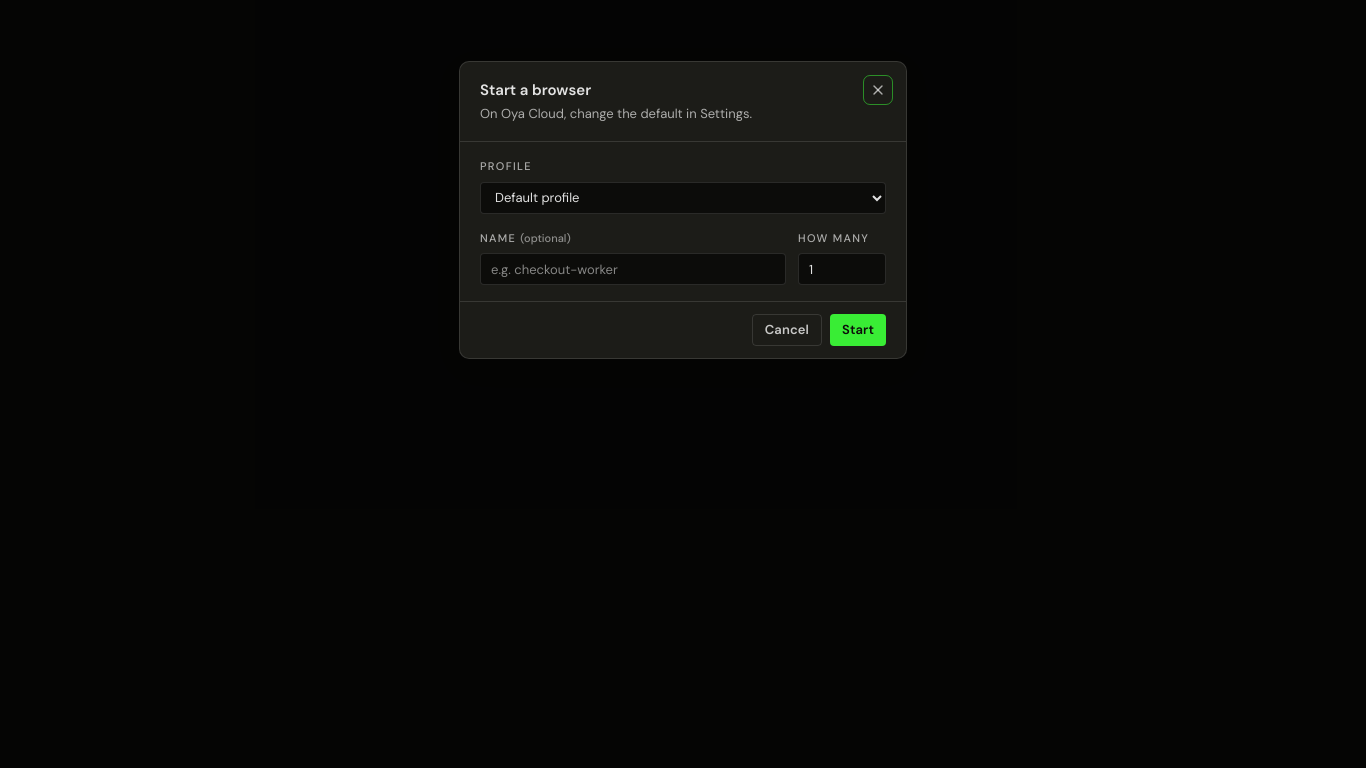
Scenario: StartBrowser › starts a browser, reports it and closes
This screenshot has width=1366, height=768.
Click the button "Start": coordinates (858, 330) x1=830 y1=314 x2=886 y2=346
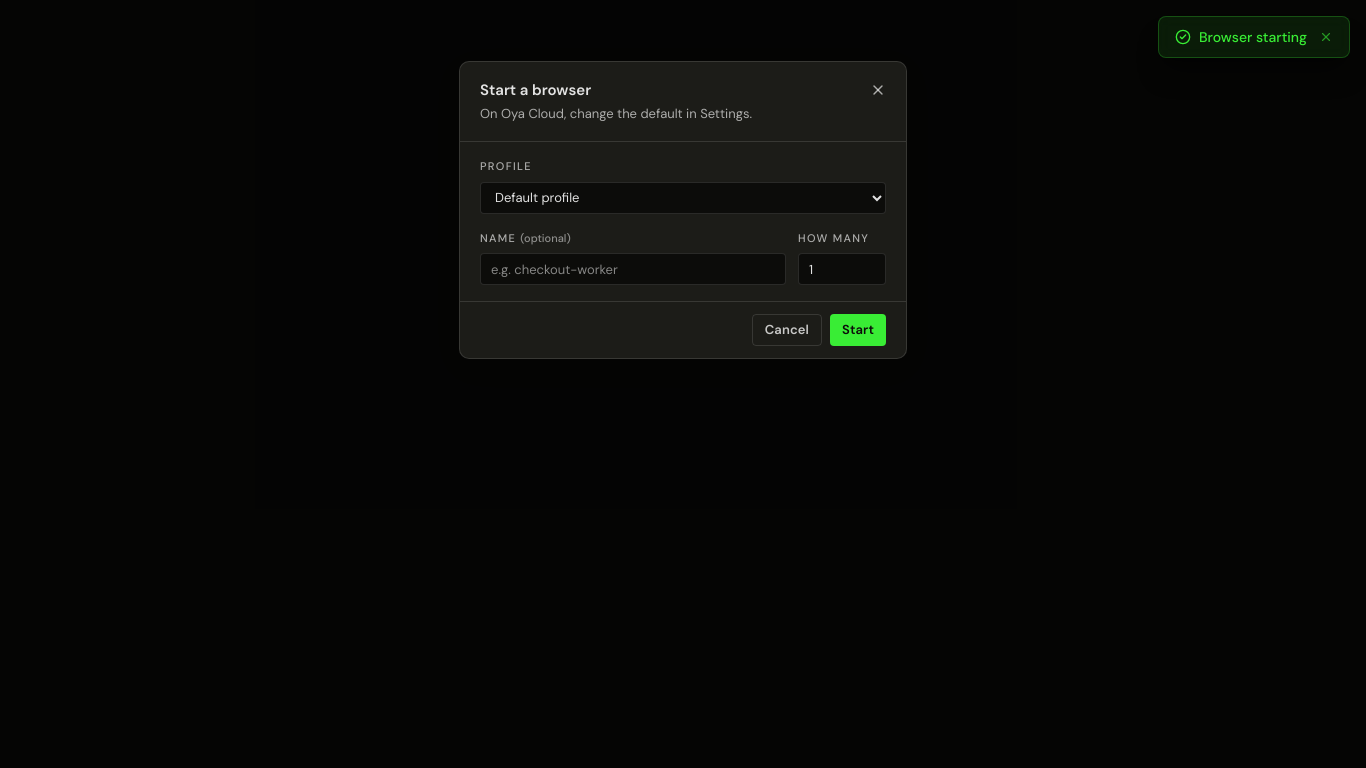
Expected: the text "Browser starting" is shown, x1=1199 y1=27 x2=1307 y2=47
